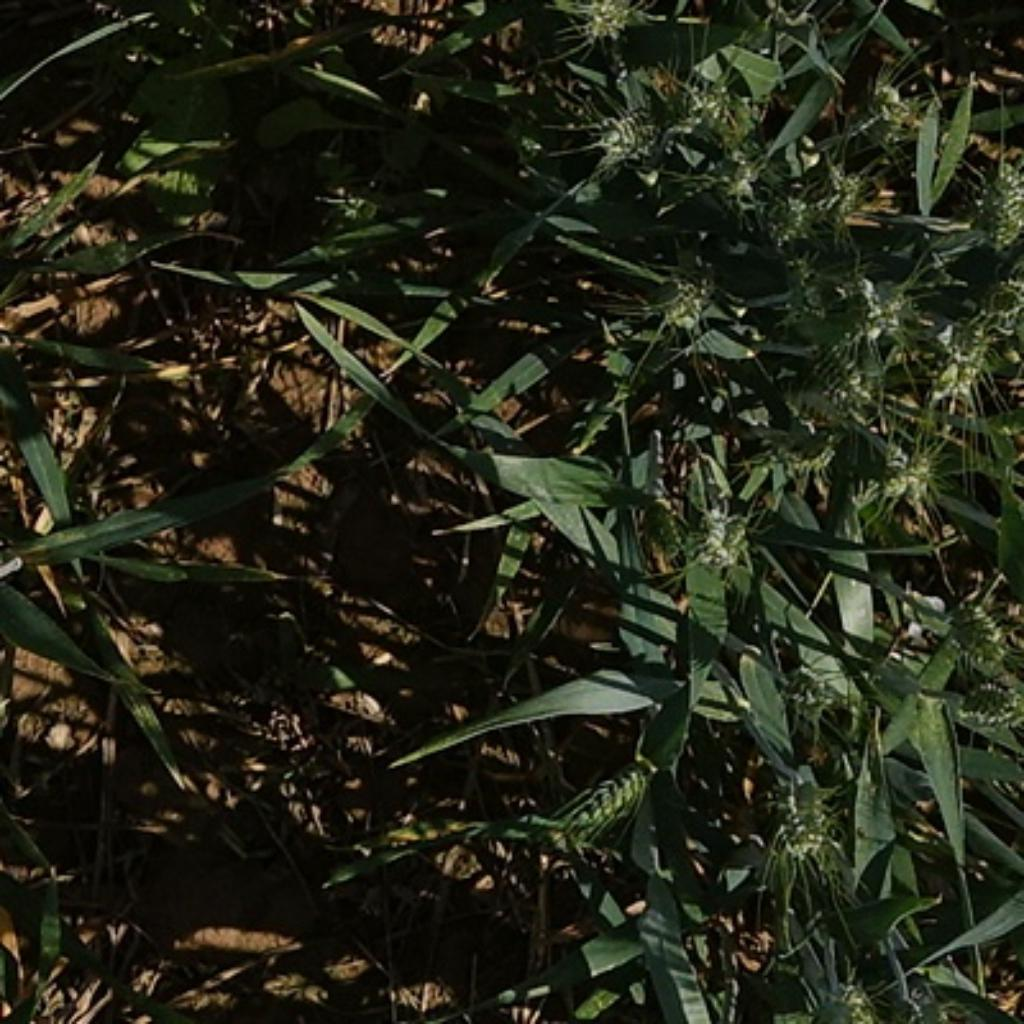0-0: (581, 94, 678, 197), (916, 586, 1018, 683), (560, 747, 663, 839), (793, 330, 888, 427), (922, 318, 998, 431), (760, 760, 844, 862), (839, 69, 929, 163), (683, 148, 770, 245), (747, 414, 860, 486), (778, 156, 865, 248), (665, 69, 762, 148), (780, 650, 860, 737), (898, 963, 1012, 1022), (957, 148, 1024, 248), (673, 494, 757, 570), (773, 250, 844, 335), (642, 263, 716, 340), (936, 670, 1024, 729), (855, 268, 916, 353), (872, 435, 942, 509), (795, 964, 883, 1022), (974, 269, 1023, 337), (568, 0, 647, 40)
